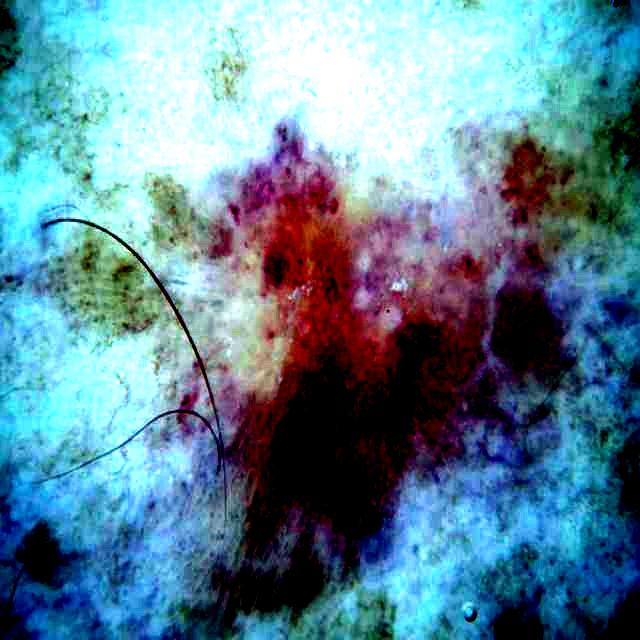AKIEC: (151, 121, 421, 601)
